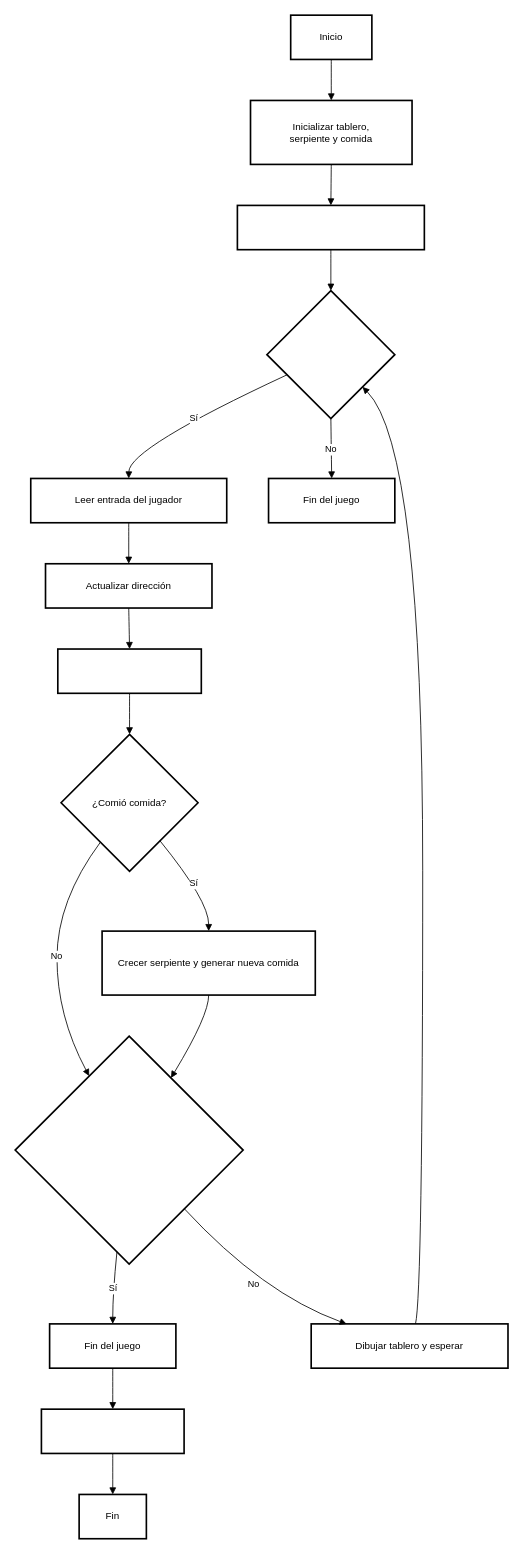
Image size: 522x1553. Some labels were removed from this diagram. Here are the shapes that lost their labels. From the top down, the centre of each, then its label:
At point (330, 227): "Definir dirección inicial".
At point (330, 354): "¿Juego activo?".
At point (129, 671): "Mover serpiente".
At point (129, 1149): "¿Colisión con borde o cuerpo?".
At point (112, 1431): "Mostrar puntaje".
